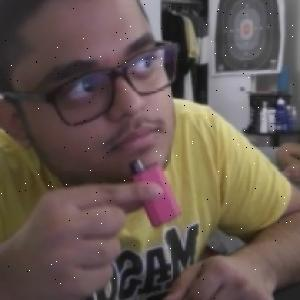Blume-E-Ciggirate: (130, 155, 183, 227)
